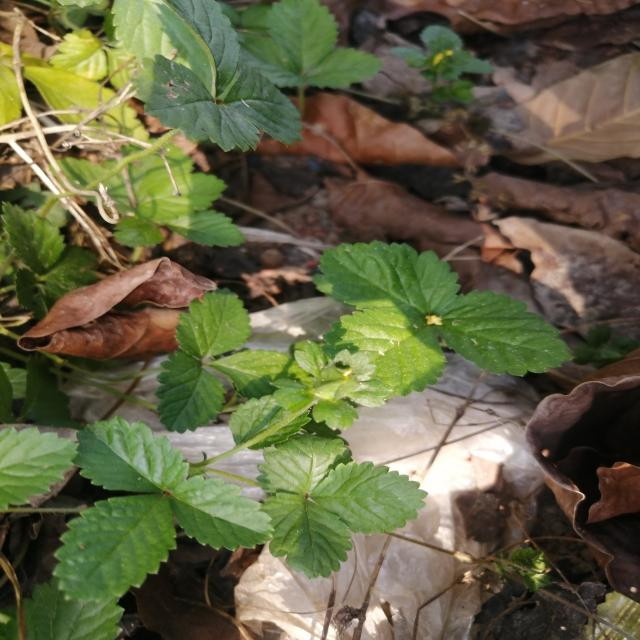Mock_strawberry: (303, 225, 571, 407), (58, 409, 262, 600)
